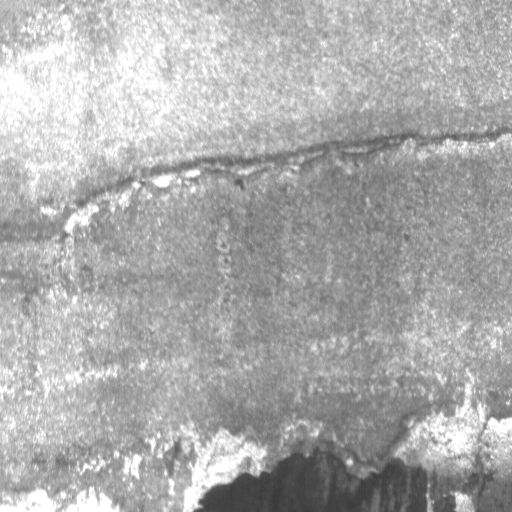aokeng: (181, 440, 465, 512)
hengxiangliewen: (57, 120, 512, 238)
